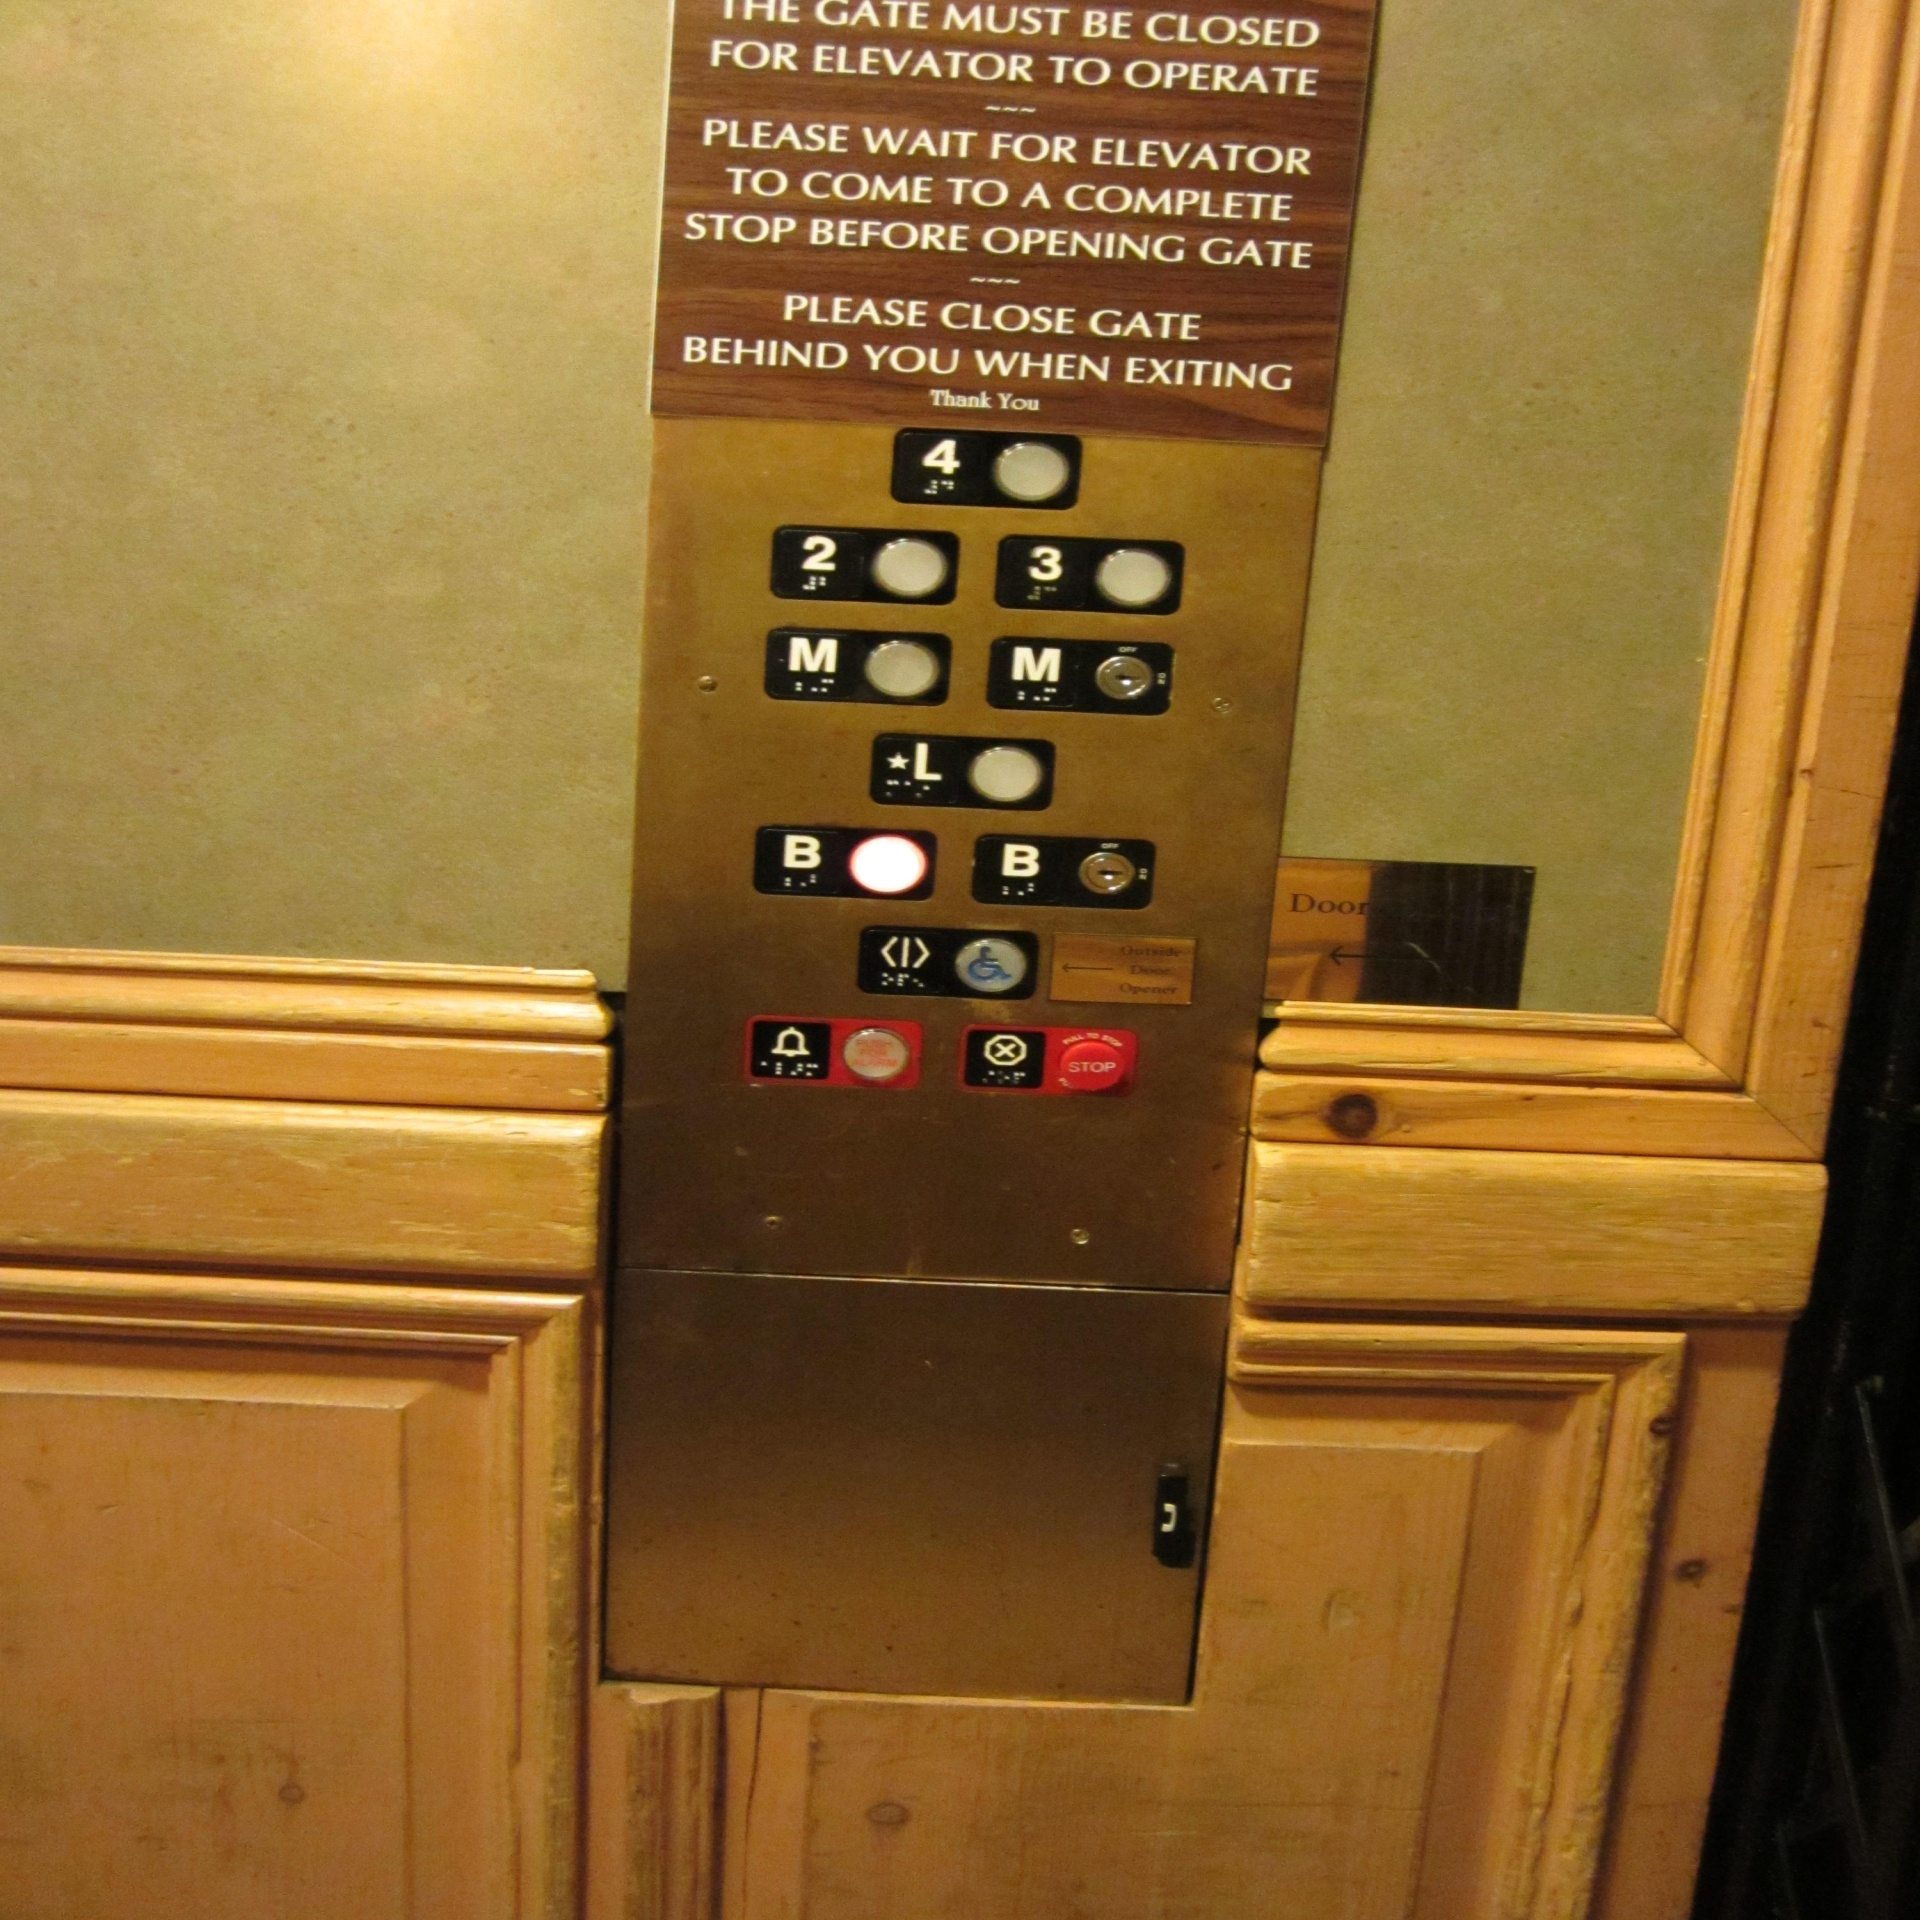2: (767, 519, 964, 612)
3: (993, 531, 1190, 615)
4: (890, 425, 1087, 512)
B: (749, 818, 942, 904), (965, 828, 1160, 913)
M: (985, 629, 1178, 721), (760, 622, 956, 709)
alarm: (744, 1009, 927, 1095)
open: (853, 920, 1044, 1006)
sL: (867, 726, 1058, 816)
stop: (956, 1020, 1141, 1102)
